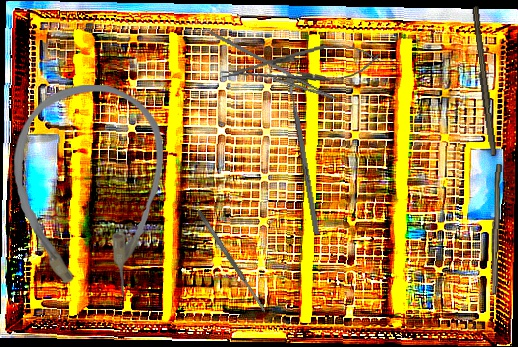Cannula: (14, 85, 163, 298)
Needle Holder: (199, 30, 343, 111), (218, 38, 383, 93)
Pusher: (286, 75, 320, 235)
Scalpel Handle: (467, 5, 500, 158), (489, 163, 502, 295)
Spatula Surgical: (195, 207, 268, 315)
